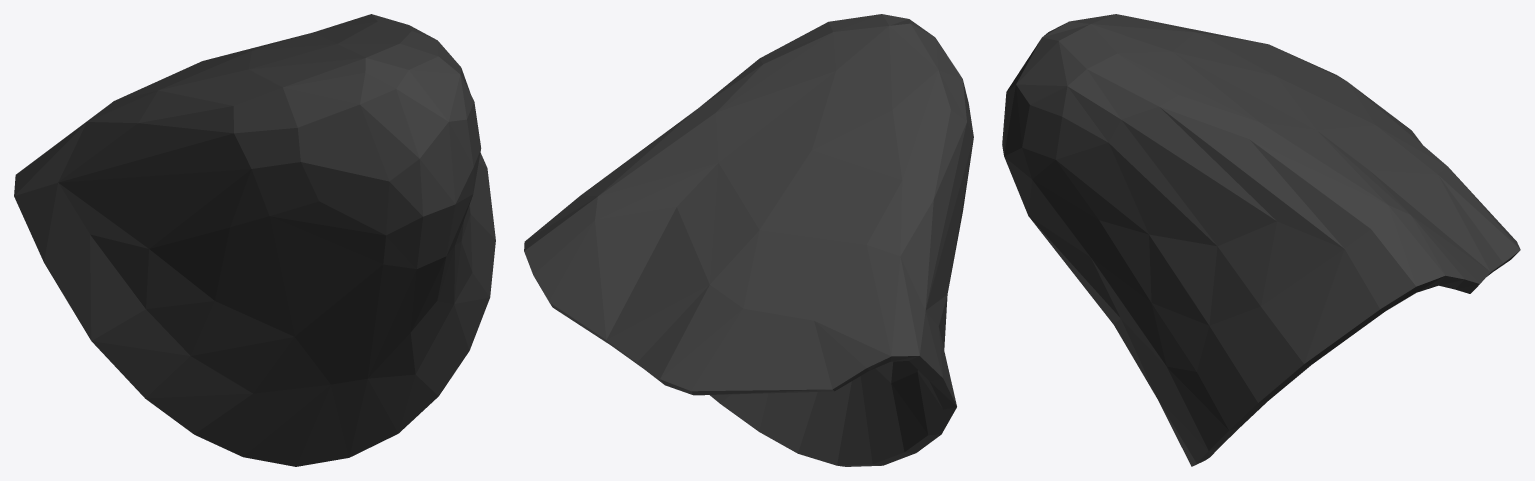
The model's file is c2_dens.glb.
The picture shows the model from 3 angles, left to right: view 1: azimuth 30°, elevation 25°; view 2: azimuth 150°, elevation 25°; view 3: azimuth 270°, elevation 25°; orthographic projection. The views are drawn at different scales.
Visible parts, largest first — view 1: c2_dens; view 2: c2_dens; view 3: c2_dens.
Part boxes in pixels (x1,y1,x2,y2): c2_dens: (14, 14, 495, 466); c2_dens: (524, 14, 973, 466); c2_dens: (1002, 14, 1520, 466).
Size of the model in its own units: 7.15 by 7.13 by 8.06.
1 material, 1 textured.
